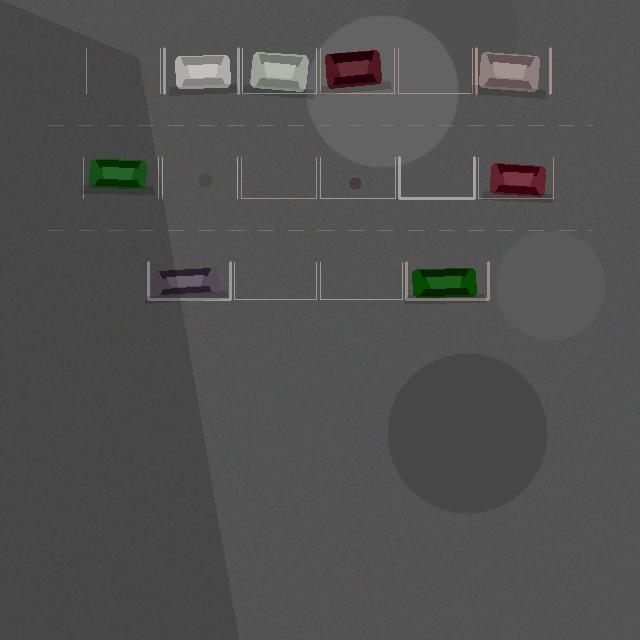space-empty: (86, 48, 160, 93), (398, 48, 472, 93), (162, 157, 237, 198), (241, 157, 316, 198), (320, 157, 395, 198), (399, 157, 474, 198), (234, 262, 316, 299), (320, 262, 402, 299)
space-occupied: (164, 48, 238, 93), (242, 48, 316, 93), (320, 48, 394, 93), (476, 48, 550, 93), (83, 157, 158, 198), (478, 157, 553, 198), (148, 262, 230, 299), (406, 262, 488, 299)
